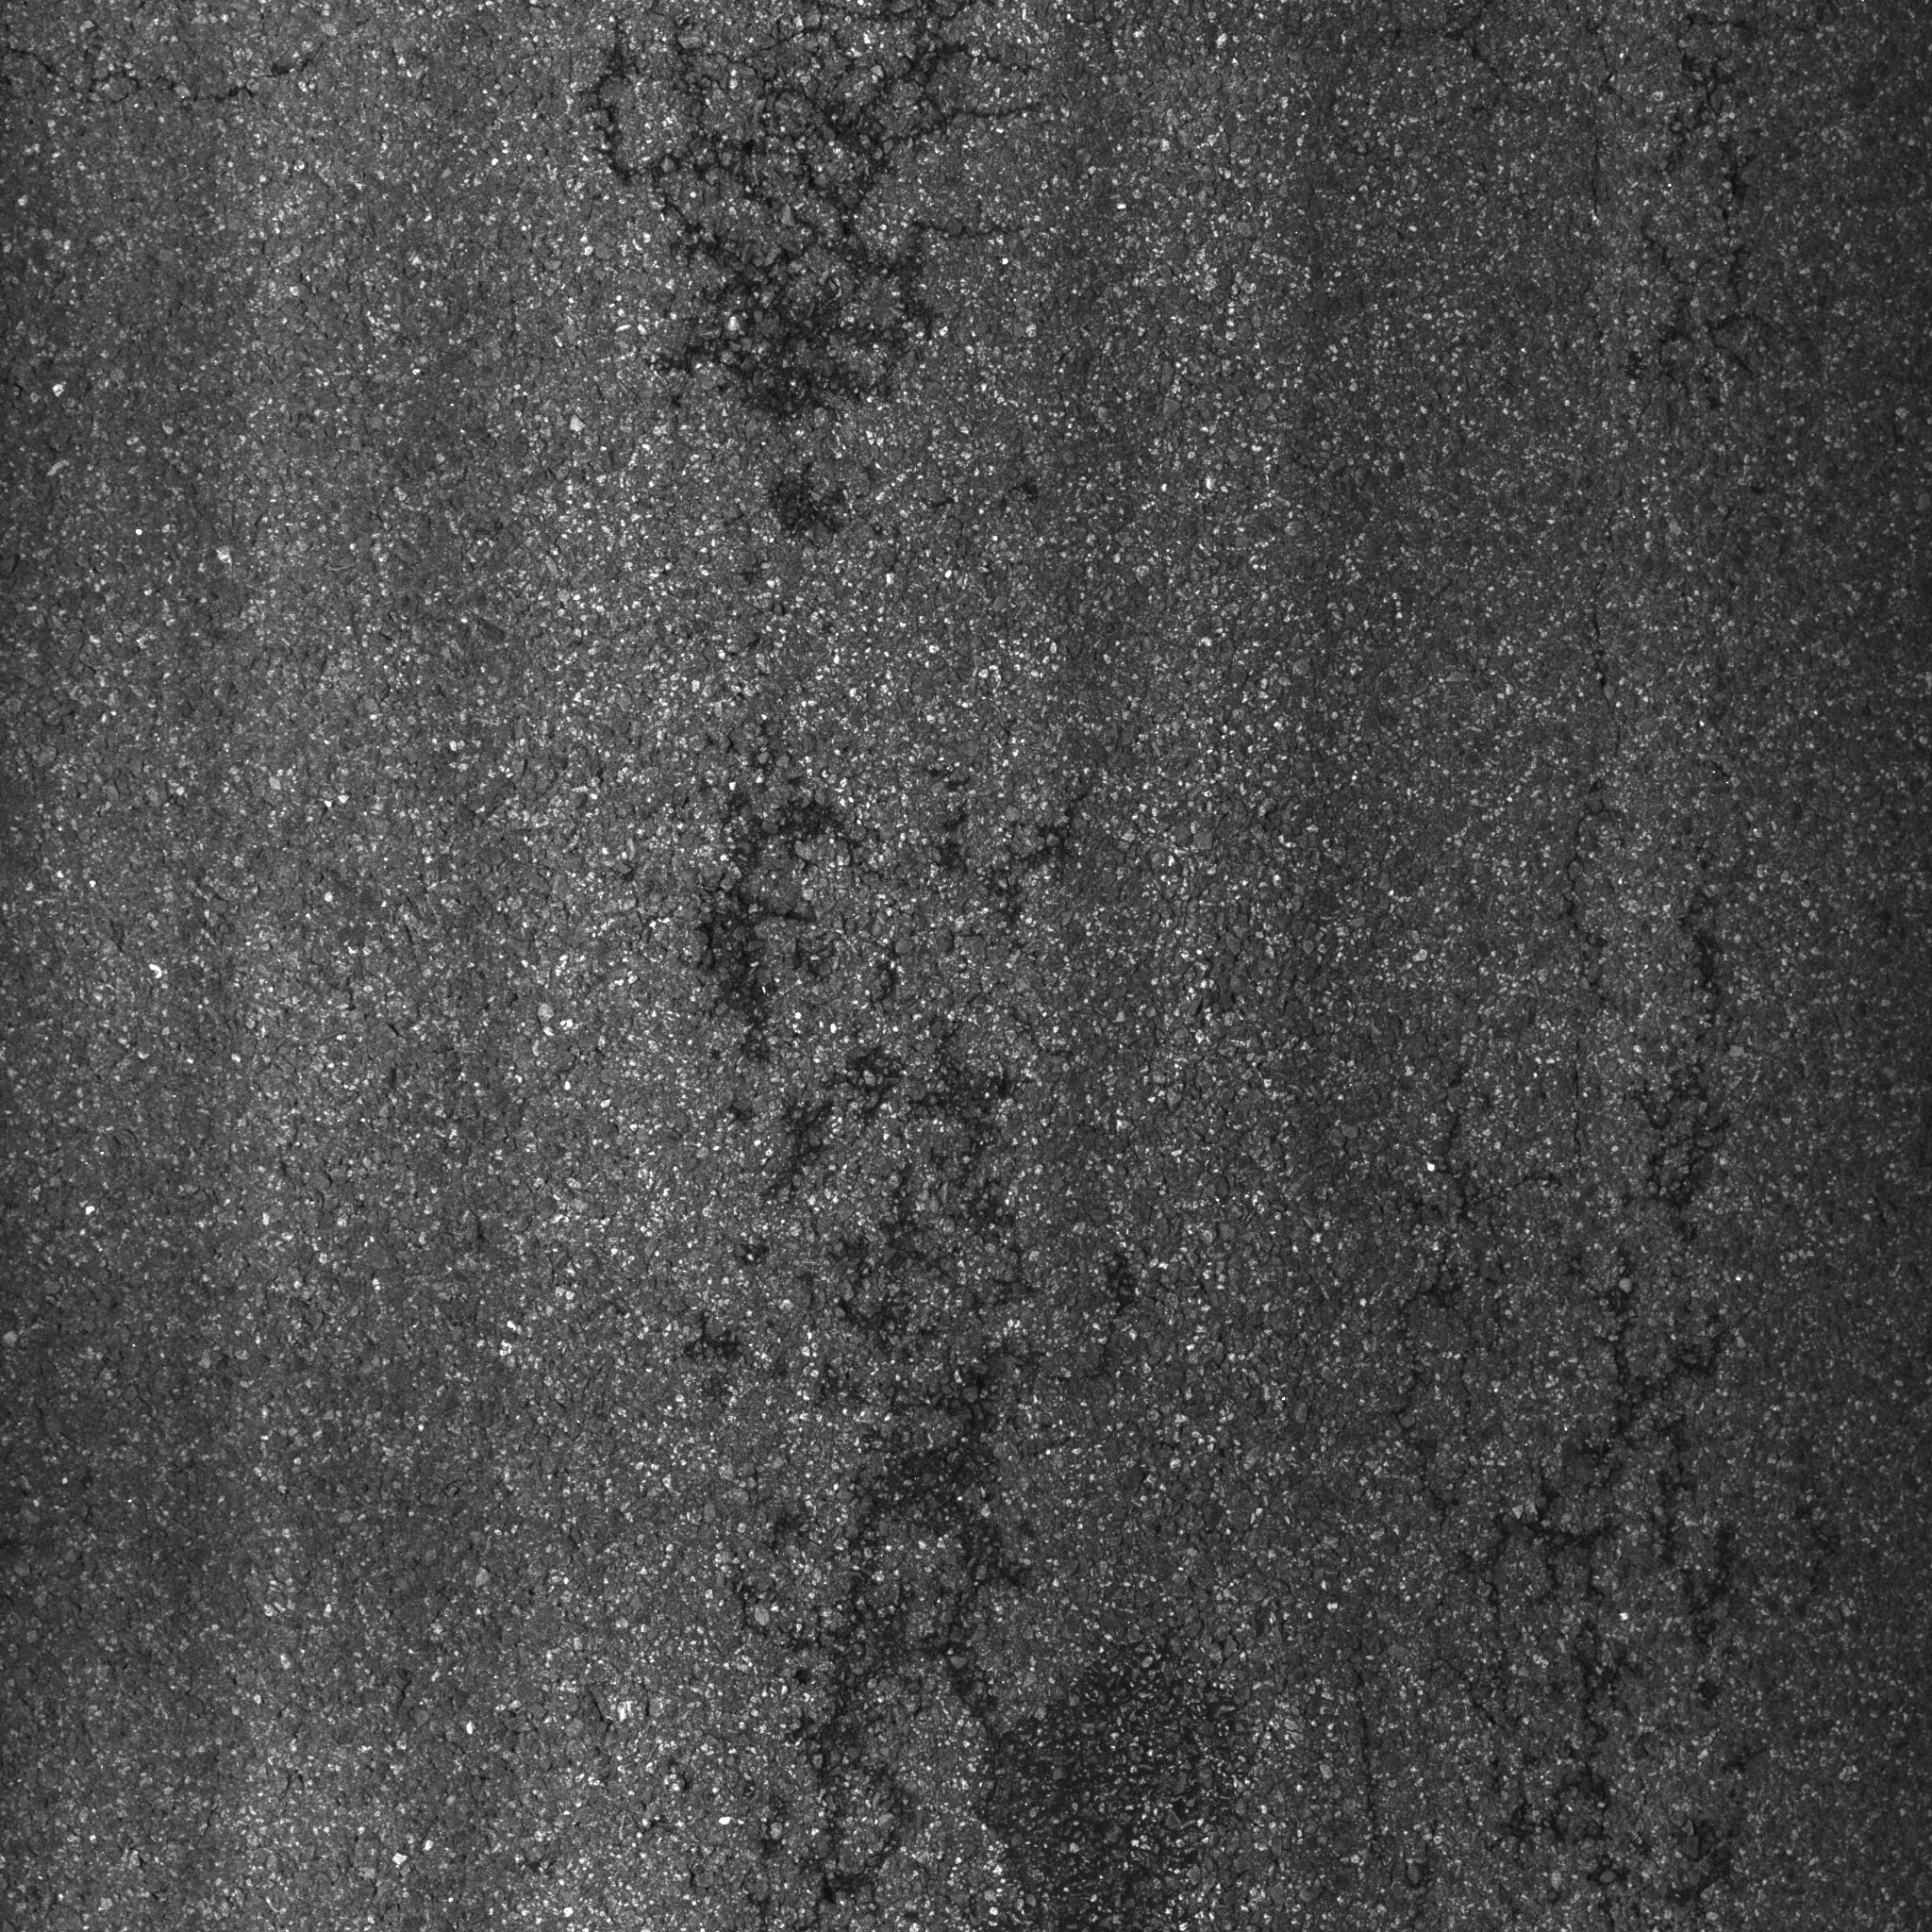alligator: (617, 741, 1833, 1932), (525, 5, 1141, 591)
